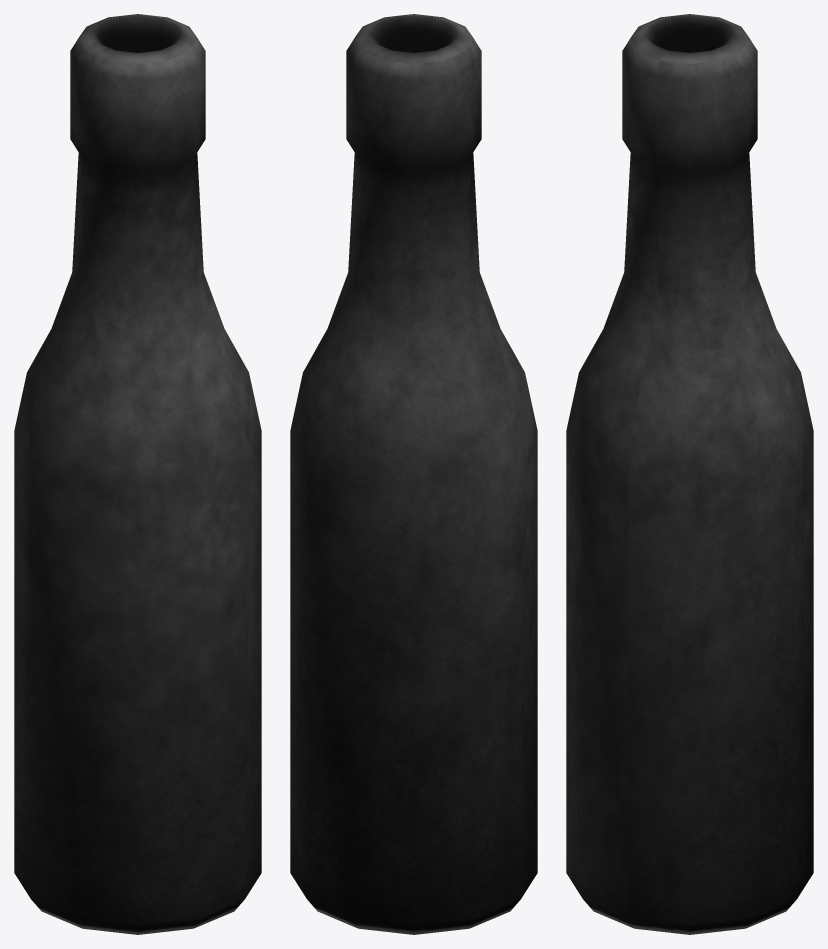
Rendered from prop_debris_small_garrafa.glb.
3 renders of one model, left to right at view 1: azimuth 30°, elevation 25°; view 2: azimuth 150°, elevation 25°; view 3: azimuth 270°, elevation 25°, orthographic.
Visible parts, largest first — view 1: prop_debris_small_garrafa_mesh; view 2: prop_debris_small_garrafa_mesh; view 3: prop_debris_small_garrafa_mesh.
Boxes of the visible parts, x1=… form: prop_debris_small_garrafa_mesh: x1=14, y1=14, x2=261, y2=934; prop_debris_small_garrafa_mesh: x1=290, y1=14, x2=537, y2=934; prop_debris_small_garrafa_mesh: x1=566, y1=14, x2=813, y2=934.
Size of the model in its own units: 0.084 by 0.32 by 0.084.
1 material, 1 textured.
